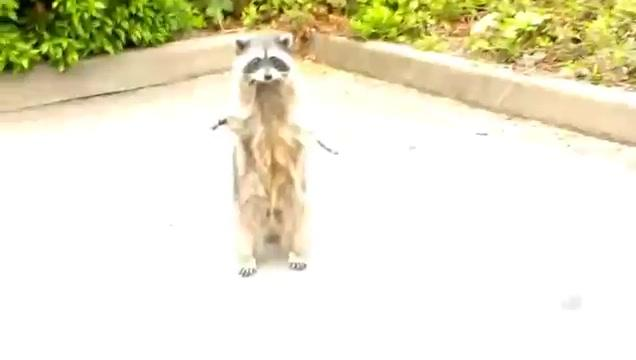raccoon: (208, 33, 340, 277)
